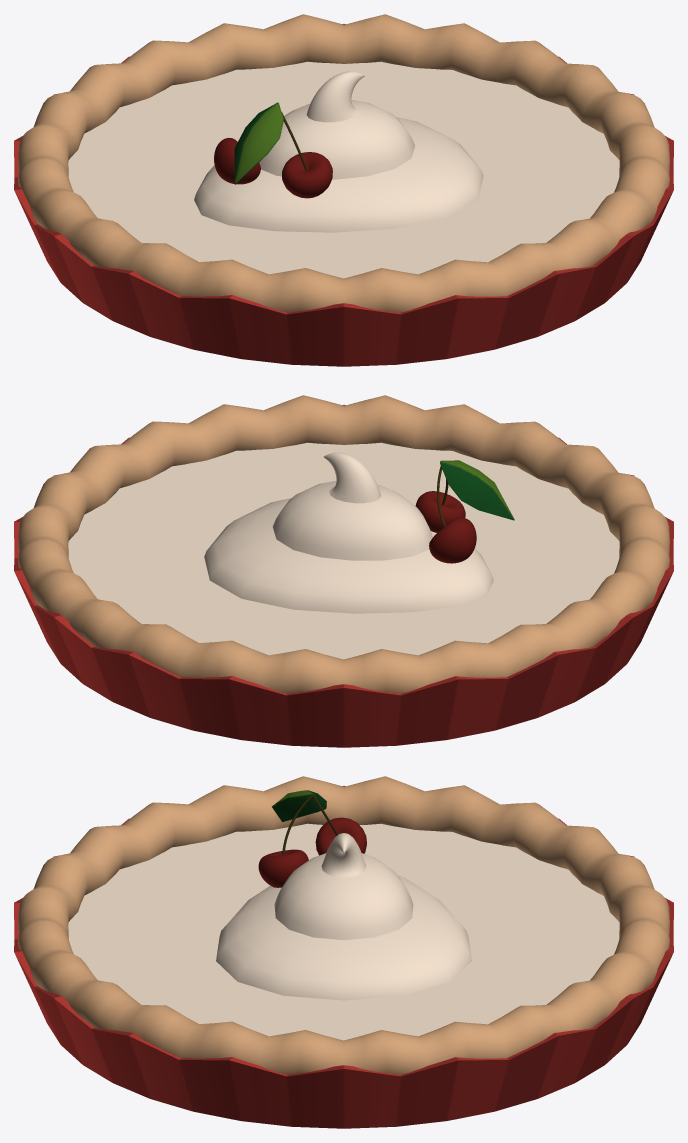
The model's file is Cherry Cake.fbx.
3 views of the same model, one above another, from view 1: azimuth 30°, elevation 25°; view 2: azimuth 150°, elevation 25°; view 3: azimuth 270°, elevation 25° (orthographic).
Parts seen in each view (by area): view 1: Tortiera_e_torta, Crosta, Panna, Foglia_ciliegie, Ciliegia_1, Ciliegia_2; view 2: Tortiera_e_torta, Crosta, Panna, Foglia_ciliegie, Ciliegia_2, Ciliegia_1; view 3: Tortiera_e_torta, Crosta, Panna, Ciliegia_1, Foglia_ciliegie, Ciliegia_2.
Part boxes in pixels (<box>): Tortiera_e_torta: <box>14,24,673,366</box>; Crosta: <box>18,14,669,312</box>; Panna: <box>194,71,483,232</box>; Foglia_ciliegie: <box>234,102,283,184</box>; Ciliegia_1: <box>282,152,332,198</box>; Ciliegia_2: <box>214,137,260,184</box>; Tortiera_e_torta: <box>14,405,673,747</box>; Crosta: <box>18,395,669,693</box>; Panna: <box>204,452,493,613</box>; Foglia_ciliegie: <box>440,460,514,520</box>; Ciliegia_2: <box>429,517,476,563</box>; Ciliegia_1: <box>415,491,465,532</box>; Tortiera_e_torta: <box>14,786,673,1128</box>; Crosta: <box>18,776,669,1074</box>; Panna: <box>216,833,471,1000</box>; Ciliegia_1: <box>258,849,308,887</box>; Foglia_ciliegie: <box>271,790,326,821</box>; Ciliegia_2: <box>315,817,366,855</box>.
Bounding box in the file's own units: 2.22 × 0.6141 × 2.19.
Materials: 1 (1 with a texture image).
